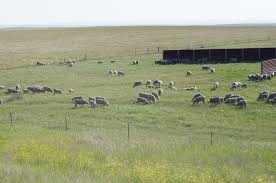sheep: (205, 93, 225, 107), (72, 96, 88, 109), (148, 88, 160, 104), (137, 89, 152, 101), (193, 93, 205, 107), (236, 99, 251, 110), (132, 79, 147, 89), (134, 93, 146, 105), (225, 96, 238, 107), (243, 70, 257, 80), (97, 95, 108, 107), (149, 77, 161, 88), (199, 63, 212, 73), (39, 83, 51, 93), (228, 80, 241, 89), (49, 85, 60, 95), (7, 85, 18, 95), (258, 90, 266, 102), (89, 98, 99, 107), (119, 69, 128, 79), (167, 81, 176, 91), (16, 85, 27, 93), (259, 70, 268, 79), (251, 69, 259, 79), (31, 85, 41, 93), (36, 60, 47, 67), (130, 58, 141, 65), (188, 68, 194, 78), (107, 70, 117, 76), (66, 59, 72, 66), (109, 58, 116, 64), (96, 60, 101, 63)
